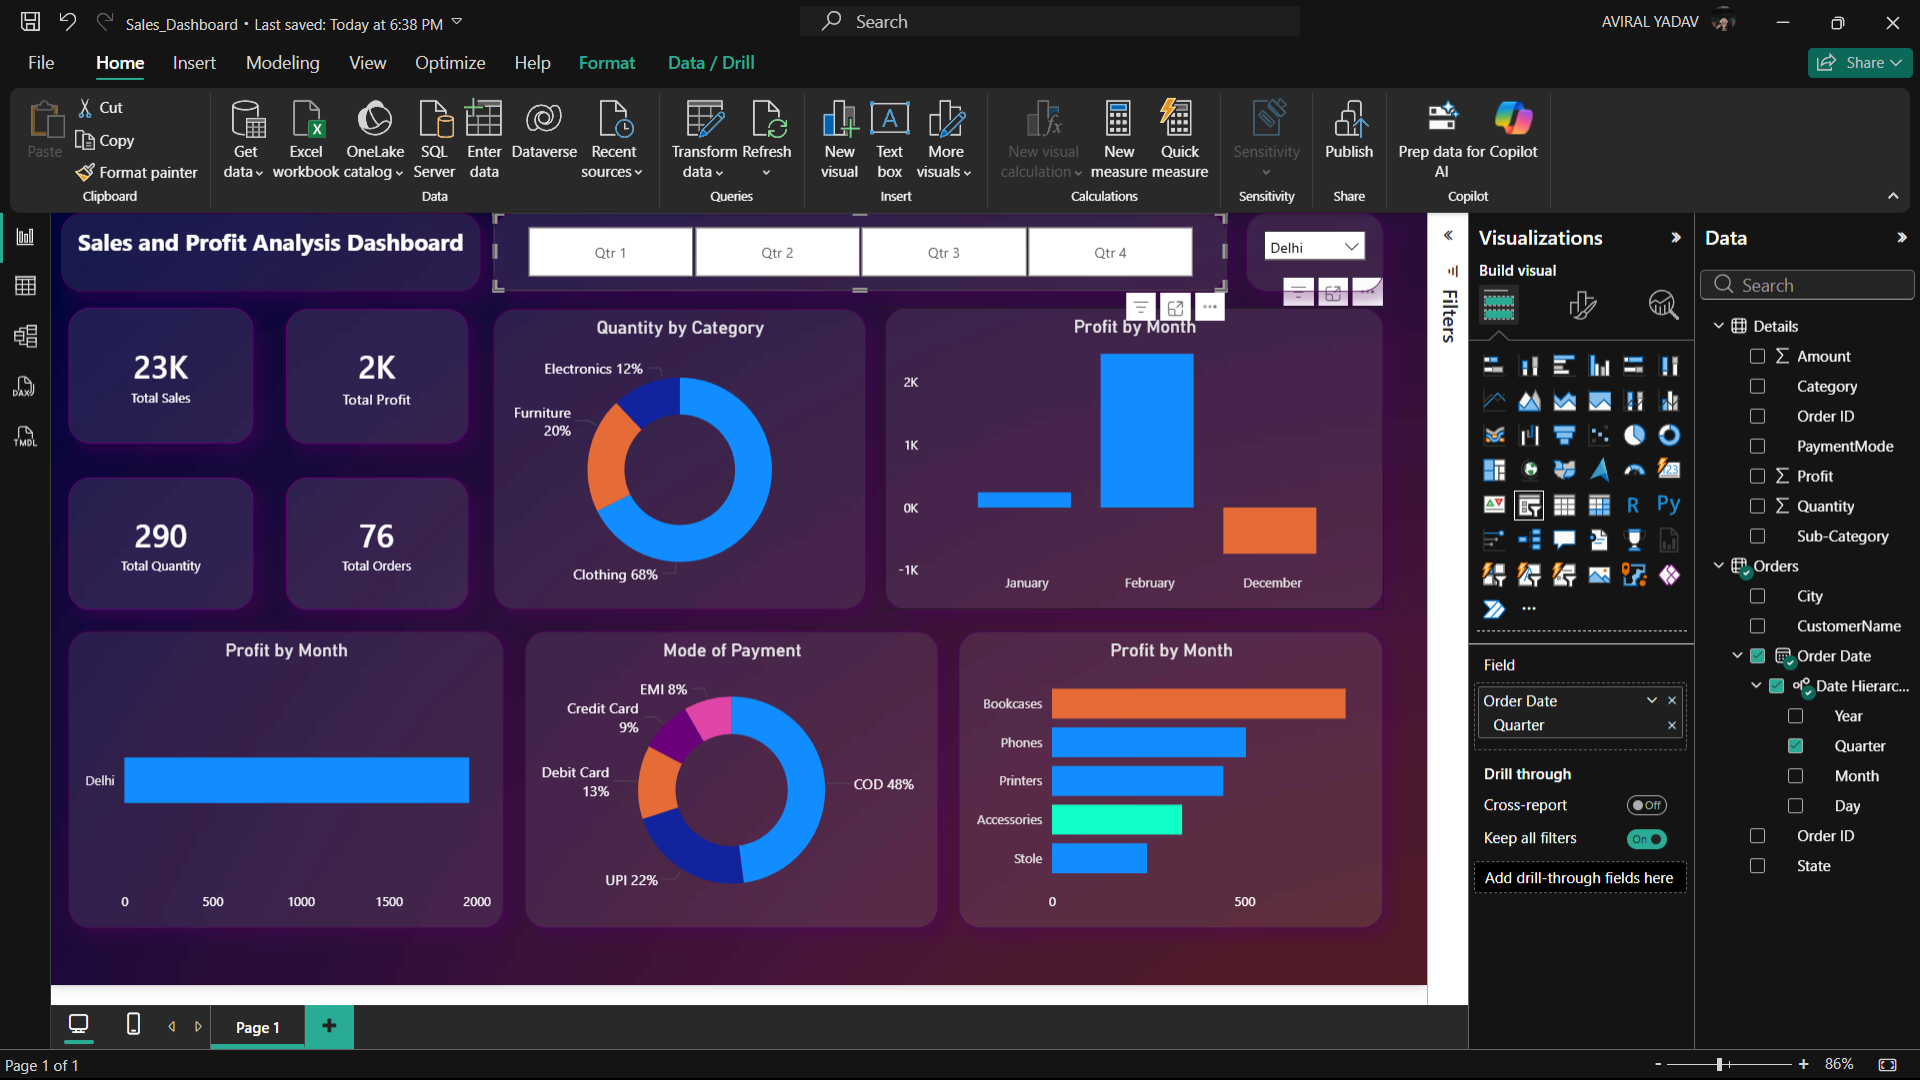

The dashboard page shown, as its layout file describes it:
{"tool":"powerbi","page":{"name":"Page 1","canvas":[1280,720],"ordinal":0},"visuals":[{"type":"textbox","box":[9.3,0,390.7,73.3],"z":0},{"type":"columnChart","title":"Profit by Month","fields":{"Category":["Orders.Order Date.Variation.Date Hierarchy.Month"],"Y":["Sum(Details.Profit)"]},"box":[775.6,88.4,464,281.4],"z":1000},{"type":"barChart","title":"Profit by Month","fields":{"Category":["Details.Sub-Category"],"Y":["Sum(Details.Profit)"]},"box":[844.2,389.5,395.3,276.7],"z":2000},{"type":"donutChart","title":"Quantity by Category","fields":{"Category":["Details.Category"],"Y":["Sum(Details.Quantity)"]},"box":[411.6,89.5,346.5,280.2],"z":3000},{"type":"donutChart","title":"Mode of Payment","fields":{"Y":["Sum(Details.Quantity)"],"Category":["Details.PaymentMode"]},"box":[440.7,389.5,384.9,276.7],"z":4000},{"type":"cardVisual","fields":{"Data":["Sum(Details.Amount)"]},"box":[16.3,88.4,172.1,126.7],"z":5000},{"type":"cardVisual","fields":{"Data":["Sum(Details.Profit)"]},"box":[218.6,89.5,169.8,125.6],"z":6000},{"type":"cardVisual","fields":{"Data":["Sum(Details.Quantity)"]},"box":[16.3,246.5,172.1,123.3],"z":6001},{"type":"cardVisual","fields":{"Data":["CountNonNull(Details.Order ID)"]},"box":[218.6,246.5,169.8,123.3],"z":6002},{"type":"barChart","title":"Profit by Month","fields":{"Y":["Sum(Details.Profit)"],"Category":["Orders.State"]},"box":[16.3,389.5,404.7,276.7],"z":6003},{"type":"slicer","fields":{"Values":["Orders.Order Date.Variation.Date Hierarchy.Quarter"]},"box":[411.6,0,681.4,73.3],"z":6004},{"type":"slicer","fields":{"Values":["Orders.State"]},"box":[1111.6,0,127.9,73.3],"z":6005}]}

Visuals, with their boxes on the page's 1280x720 design canvas (x1, y1, x2, y2). These are canvas units, not pixel positions in the 1920x1080 screenshot, which may show the page scaled, cropped or inside an application window:
textbox: [x1=9, y1=0, x2=400, y2=73]
"Profit by Month" columnChart: [x1=776, y1=88, x2=1240, y2=370]
"Profit by Month" barChart: [x1=844, y1=390, x2=1240, y2=666]
"Quantity by Category" donutChart: [x1=412, y1=90, x2=758, y2=370]
"Mode of Payment" donutChart: [x1=441, y1=390, x2=826, y2=666]
cardVisual - Sum(Details.Amount): [x1=16, y1=88, x2=188, y2=215]
cardVisual - Sum(Details.Profit): [x1=219, y1=90, x2=388, y2=215]
cardVisual - Sum(Details.Quantity): [x1=16, y1=246, x2=188, y2=370]
cardVisual - CountNonNull(Details.Order ID): [x1=219, y1=246, x2=388, y2=370]
"Profit by Month" barChart: [x1=16, y1=390, x2=421, y2=666]
slicer - Orders.Order Date.Variation.Date Hierarchy.Quarter: [x1=412, y1=0, x2=1093, y2=73]
slicer - Orders.State: [x1=1112, y1=0, x2=1240, y2=73]
